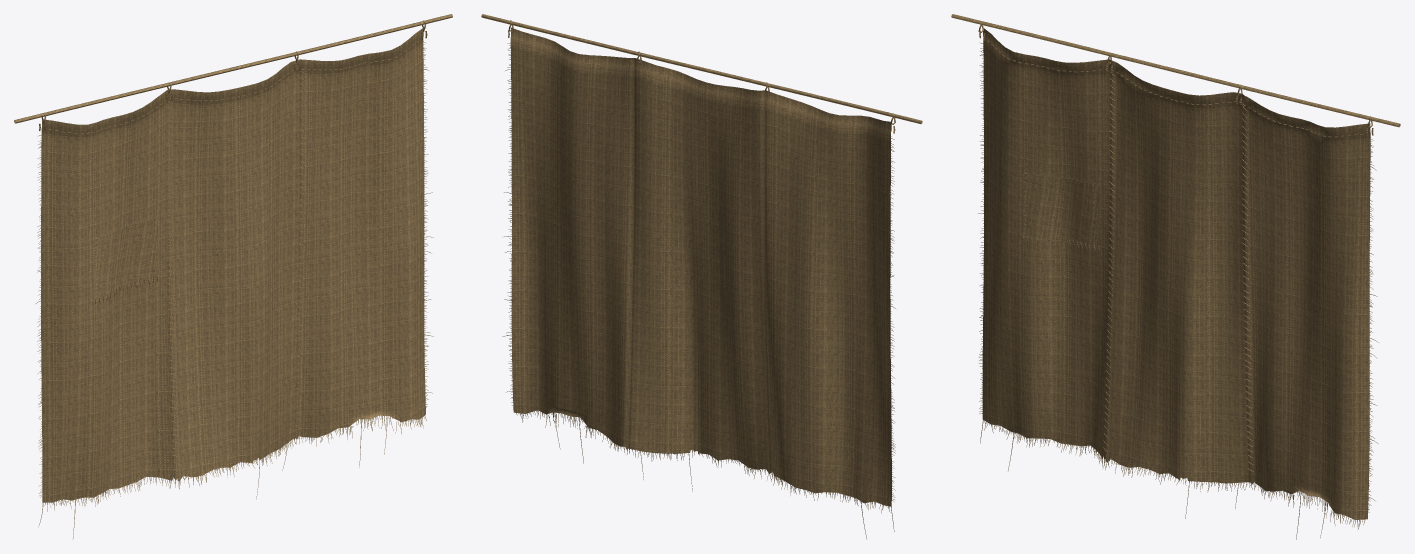
The model's file is jute_panel.glb.
3 views of the same model, side by side, from view 1: azimuth 30°, elevation 25°; view 2: azimuth 150°, elevation 25°; view 3: azimuth 330°, elevation 25° (orthographic). The views are drawn at different scales.
Parts seen in each view (by area): view 1: jute_panel; view 2: jute_panel; view 3: jute_panel.
Boxes of the visible parts, bbox=[...] form: jute_panel: bbox=[14, 14, 452, 539]; jute_panel: bbox=[481, 14, 922, 538]; jute_panel: bbox=[951, 14, 1400, 539].
Bounding box in the file's own units: 2.3 × 2.17 × 0.1516.
Materials: 1 (1 with a texture image).
